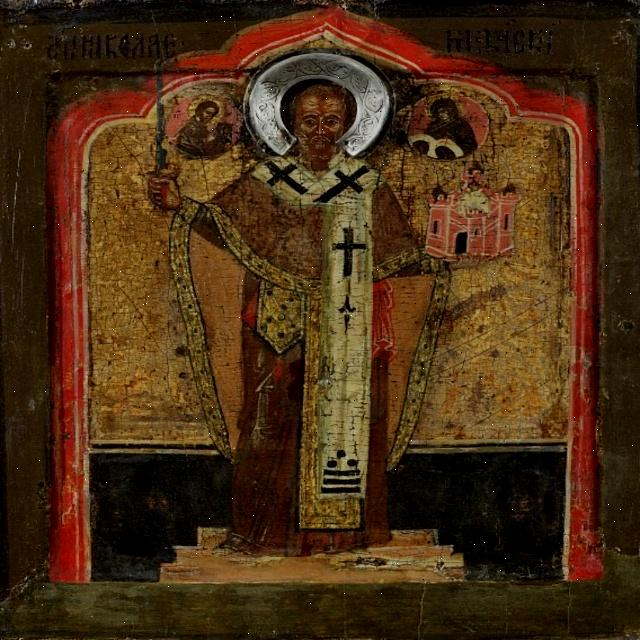aura: (244, 49, 396, 158), (186, 93, 224, 122), (424, 94, 463, 122)
castle: (422, 162, 523, 261)
cross: (316, 161, 376, 205), (257, 158, 306, 198), (332, 223, 366, 280)
mary: (422, 99, 473, 156)
saint: (238, 45, 401, 556), (172, 91, 226, 156)
sword: (146, 56, 177, 223)
